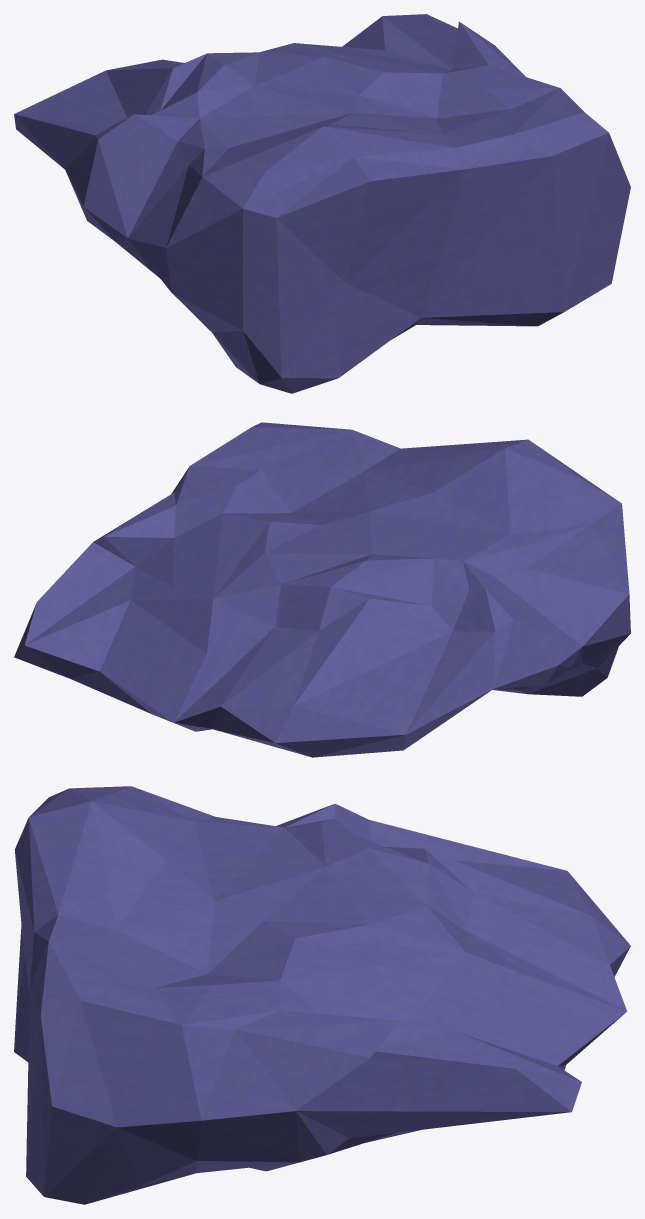
Rendered from Elder_IceWall.fbx.
The picture shows the model from 3 angles, top to bottom: view 1: azimuth 30°, elevation 25°; view 2: azimuth 150°, elevation 25°; view 3: azimuth 270°, elevation 25°; orthographic projection. The views are drawn at different scales.
Parts seen in each view (by area): view 1: Elder_IceWall; view 2: Elder_IceWall; view 3: Elder_IceWall.
Part boxes in pixels (box(x1,y1,x2,y2)): Elder_IceWall: box(14, 14, 630, 393); Elder_IceWall: box(14, 422, 630, 757); Elder_IceWall: box(14, 786, 630, 1204).
Size of the model in its own units: 356 by 180 by 358.
Materials: 2 (2 with a texture image).
